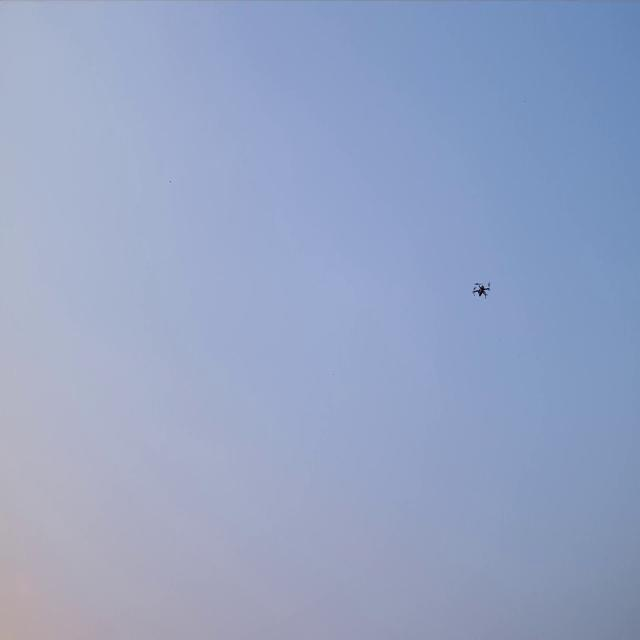UAV: (472, 280, 491, 301)
